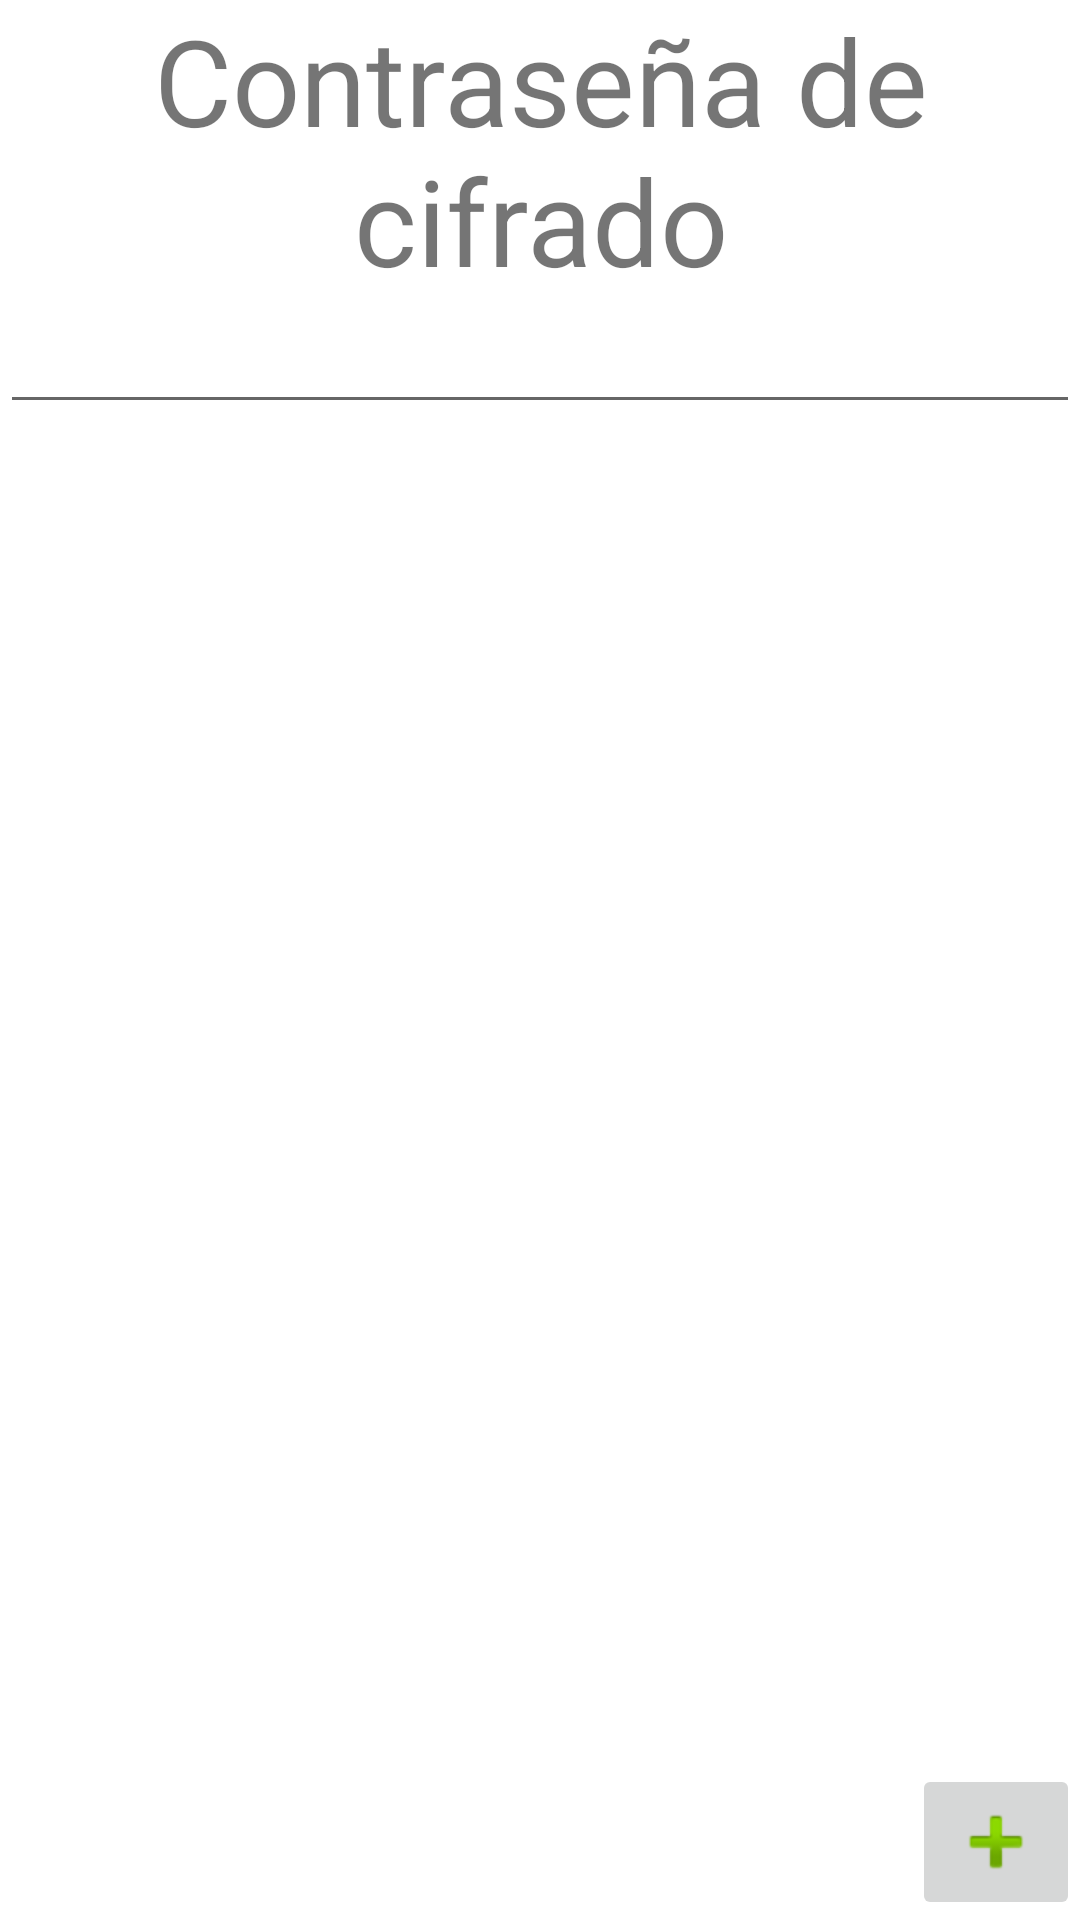

Screen size 1080w x 1920h. Icon name, then its box in pixels as (x1, y1, x2, y2):
add: (924, 1782, 1068, 1902)
